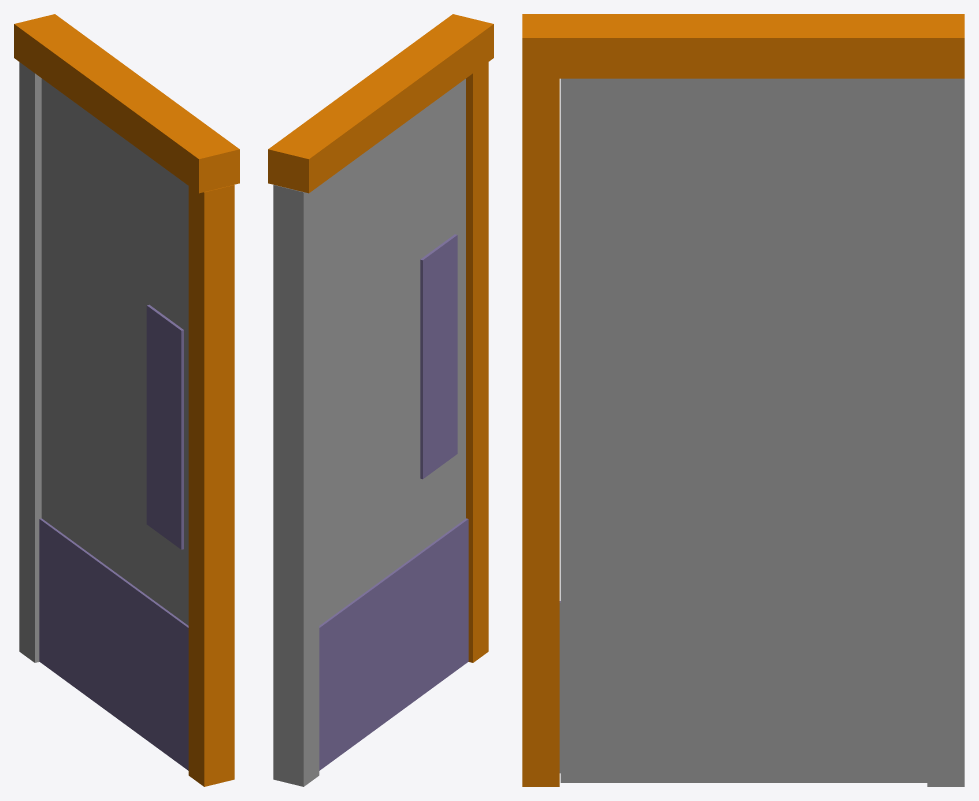
Rendered from UV_SingleDoor.fbx.
3 views of the same model, side by side, from view 1: azimuth 30°, elevation 25°; view 2: azimuth 150°, elevation 25°; view 3: azimuth 270°, elevation 25° (orthographic). The views are drawn at different scales.
Visible parts, largest first — view 1: singleDoor; view 2: singleDoor; view 3: singleDoor.
Part boxes in pixels (<box>): singleDoor: <box>14,14,239,786</box>; singleDoor: <box>268,14,493,786</box>; singleDoor: <box>522,14,964,786</box>.
Bounding box in the file's own units: 0.681 × 10.01 × 5.34.
